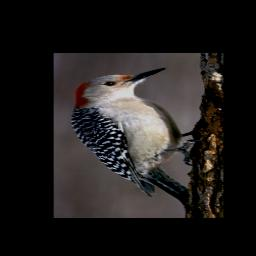Woodpecker: (70, 67, 201, 198)
